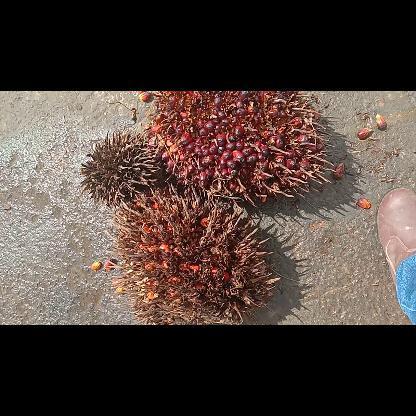Janjang kosong: (78, 130, 168, 210)
TBS masak: (145, 91, 335, 207)
Terlalu masak: (105, 183, 280, 323)
